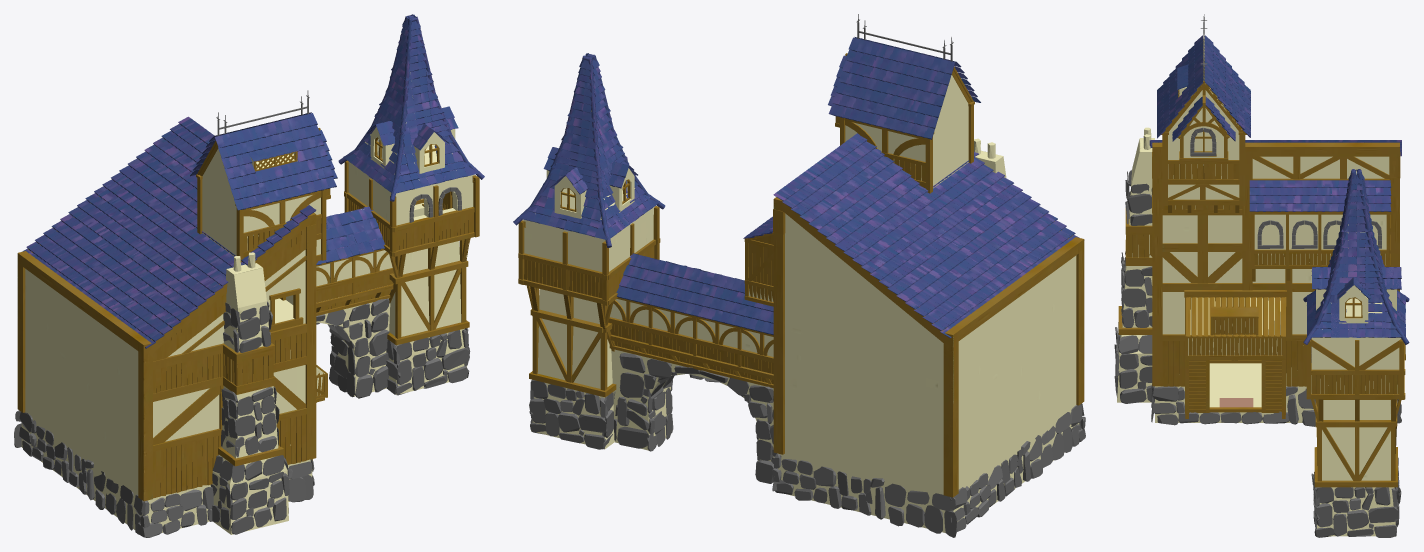
The model's file is tavern(old).glb.
3 views of the same model, side by side, from view 1: azimuth 30°, elevation 25°; view 2: azimuth 150°, elevation 25°; view 3: azimuth 270°, elevation 25° (orthographic). The views are drawn at different scales.
Parts seen in each view (by area): view 1: roof-2, building, wood, stones, boards; view 2: building, roof-2, wood, stones, boards; view 3: wood, building, roof-2, stones, boards.
Boxes of the visible parts, <box> form: roof-2: <box>22,14,484,348</box>; building: <box>21,72,474,534</box>; wood: <box>17,128,479,501</box>; stones: <box>14,90,470,537</box>; boards: <box>153,193,473,498</box>; building: <box>523,75,1079,532</box>; roof-2: <box>513,37,1079,338</box>; wood: <box>518,53,1084,497</box>; stones: <box>529,14,1085,537</box>; boards: <box>524,157,925,384</box>; wood: <box>1118,38,1405,487</box>; building: <box>1117,87,1401,536</box>; roof-2: <box>1149,35,1409,344</box>; stones: <box>1114,14,1401,537</box>; boards: <box>1126,164,1399,412</box>.
Size of the model in its own units: 17.79 by 15.51 by 10.94.
Materials: 9 (6 with a texture image).
